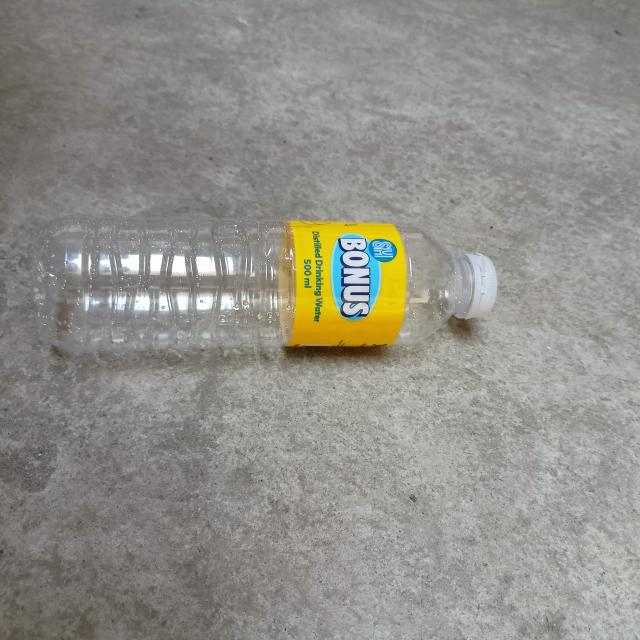Bottle: (33, 217, 497, 353)
